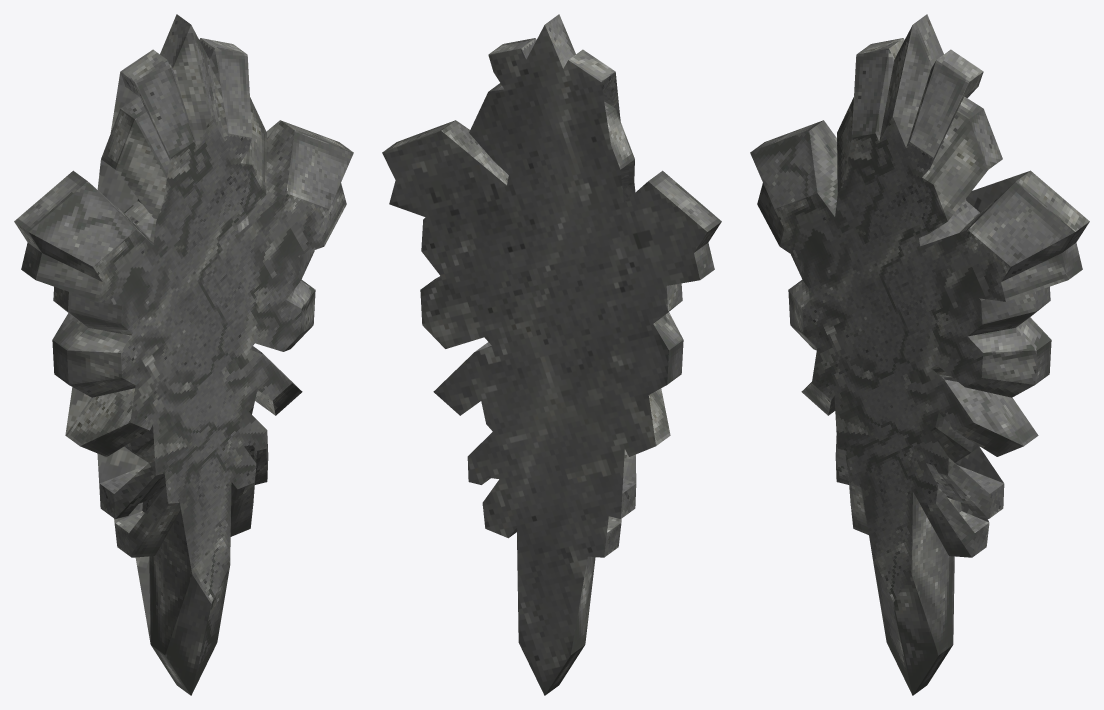
Rendered from bigcross2.fbx.
The picture shows the model from 3 angles, left to right: view 1: azimuth 30°, elevation 25°; view 2: azimuth 150°, elevation 25°; view 3: azimuth 330°, elevation 25°; orthographic projection.
Parts seen in each view (by area): view 1: BézierCurve.002; view 2: BézierCurve.002; view 3: BézierCurve.002.
Boxes of the visible parts, x1,y1,x2,y2 form: BézierCurve.002: (14,14,353,695); BézierCurve.002: (382,14,721,695); BézierCurve.002: (750,14,1089,695).
Bounding box in the file's own units: 1139 × 2245 × 209.
